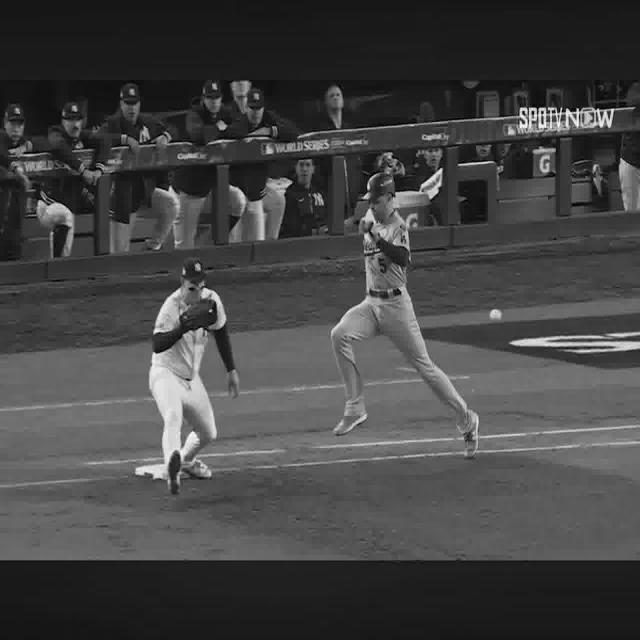base: (135, 463, 168, 480)
baseball: (491, 309, 501, 322)
baseball_glove: (180, 298, 218, 332)
shoe: (334, 405, 368, 435), (463, 412, 480, 458), (182, 458, 212, 478), (168, 450, 181, 495)
